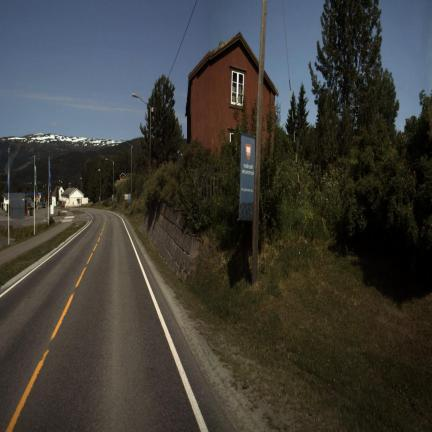Road: (0, 210, 230, 430)
